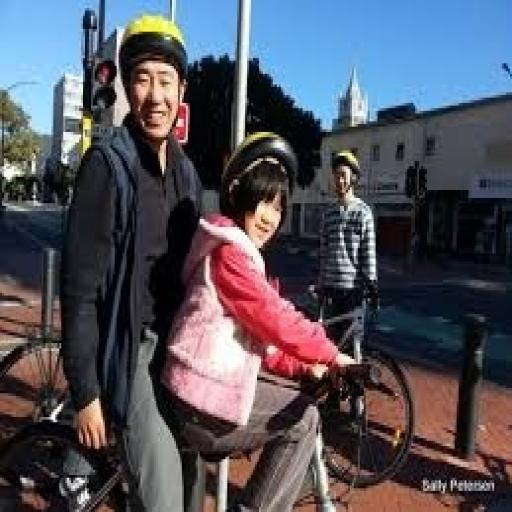cycling: (152, 130, 370, 510), (58, 10, 208, 510)
